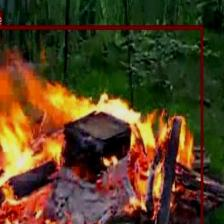fire: (0, 25, 202, 224)
